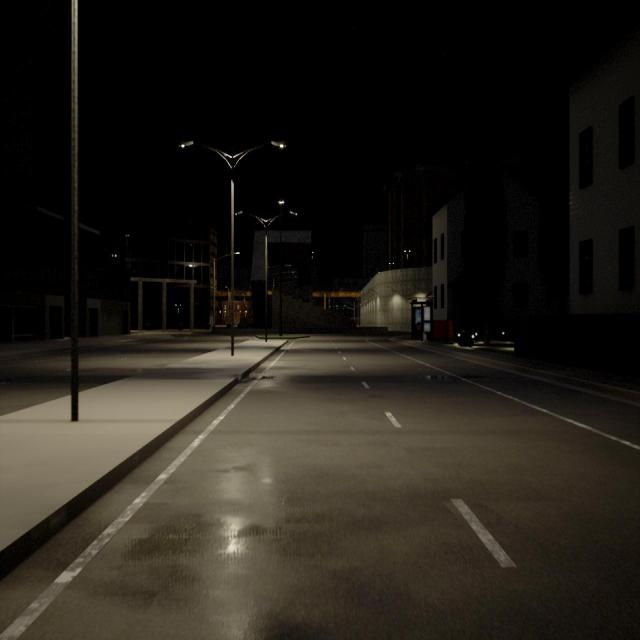traffic_light: (335, 305, 338, 309), (344, 306, 345, 309)
